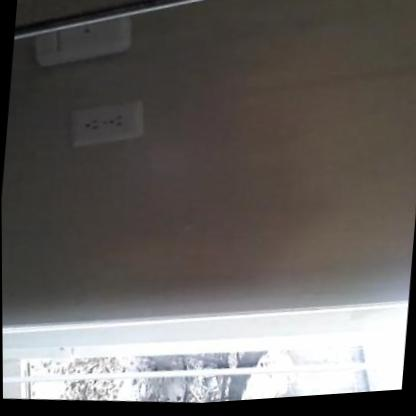OUTLET: (71, 99, 138, 145)
